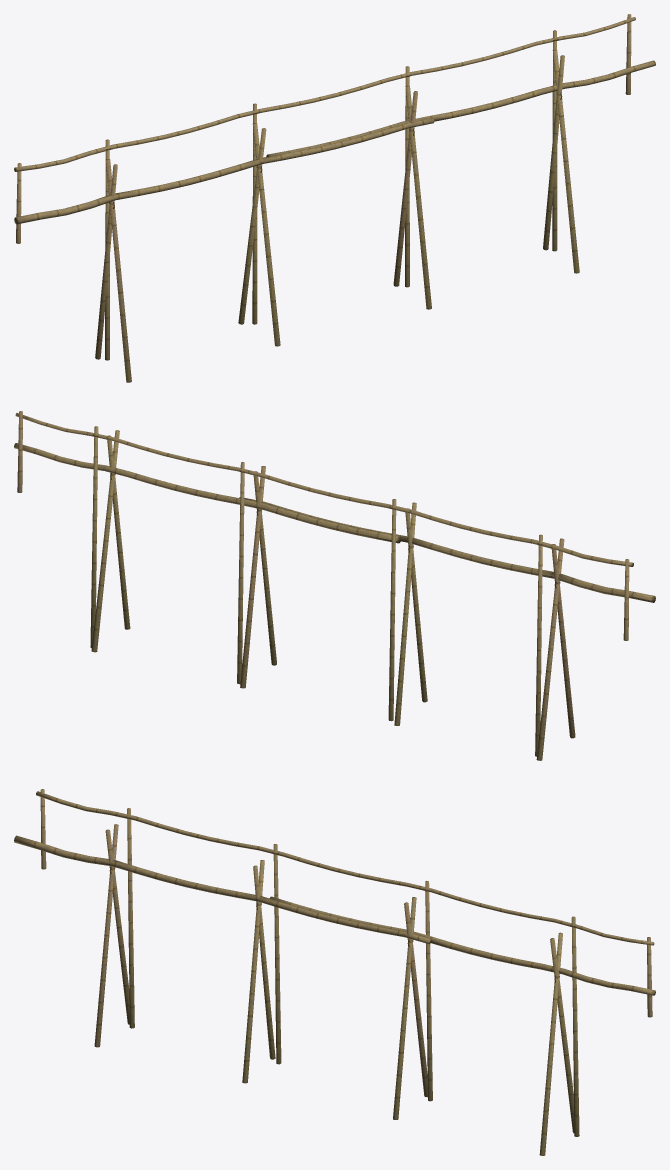
The model's file is bridge_monkey.glb.
3 views of the same model, one above another, from view 1: azimuth 30°, elevation 25°; view 2: azimuth 150°, elevation 25°; view 3: azimuth 330°, elevation 25° (orthographic).
Visible parts, largest first — view 1: bridge_monkey_mesh; view 2: bridge_monkey_mesh; view 3: bridge_monkey_mesh.
Boxes of the visible parts, left/top/right/bottom form: bridge_monkey_mesh: left=14, top=14, right=655, bottom=382; bridge_monkey_mesh: left=14, top=411, right=655, bottom=760; bridge_monkey_mesh: left=14, top=789, right=655, bottom=1155.
Bounding box in the file's own units: 12.6 × 4.16 × 1.2.
Materials: 2 (1 with a texture image).
